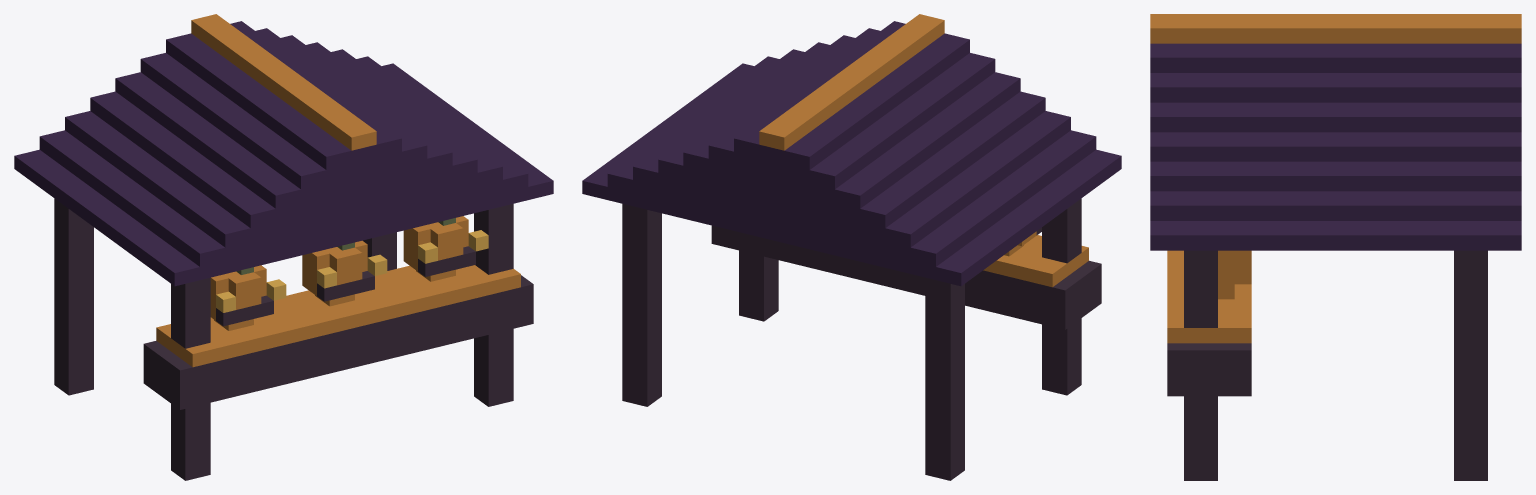
Rendered from market.glb.
The picture shows the model from 3 angles, left to right: view 1: azimuth 30°, elevation 25°; view 2: azimuth 150°, elevation 25°; view 3: azimuth 270°, elevation 25°; orthographic projection. The views are drawn at different scales.
Visible parts, largest first — view 1: Shell; view 2: Shell; view 3: Shell.
Boxes of the visible parts, x1=… form: Shell: x1=14, y1=14, x2=553, y2=480; Shell: x1=582, y1=14, x2=1121, y2=480; Shell: x1=1150, y1=14, x2=1521, y2=480.
Bounding box in the file's own units: 3.75 × 3 × 2.75.
